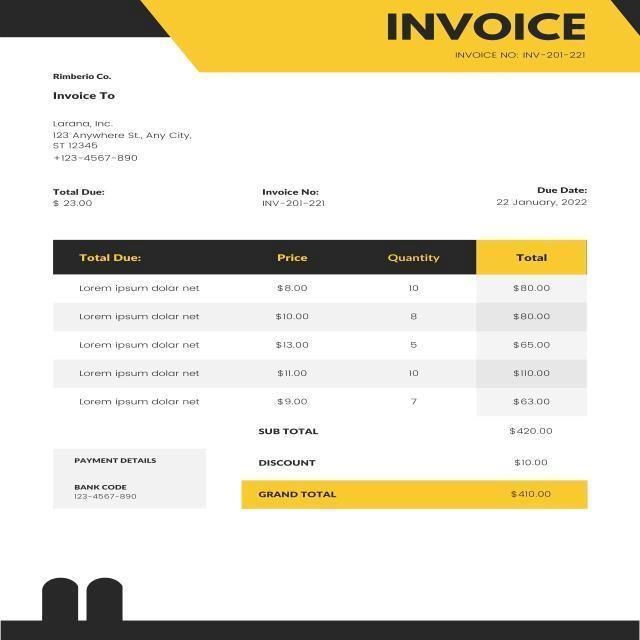ROI: (53, 242, 586, 413), (254, 417, 567, 506), (40, 67, 198, 166), (381, 5, 625, 63), (68, 453, 169, 506), (481, 182, 600, 213), (43, 181, 116, 213), (257, 185, 336, 214)
